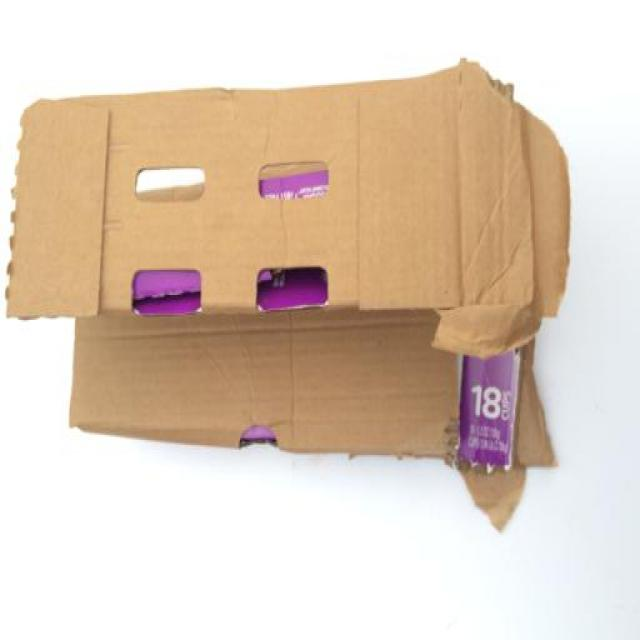cardboard: (1, 57, 620, 557)
